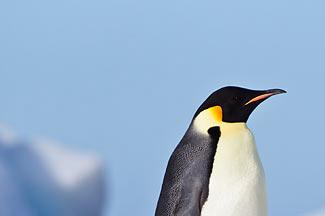Emperor Penguin: (123, 73, 308, 216)
